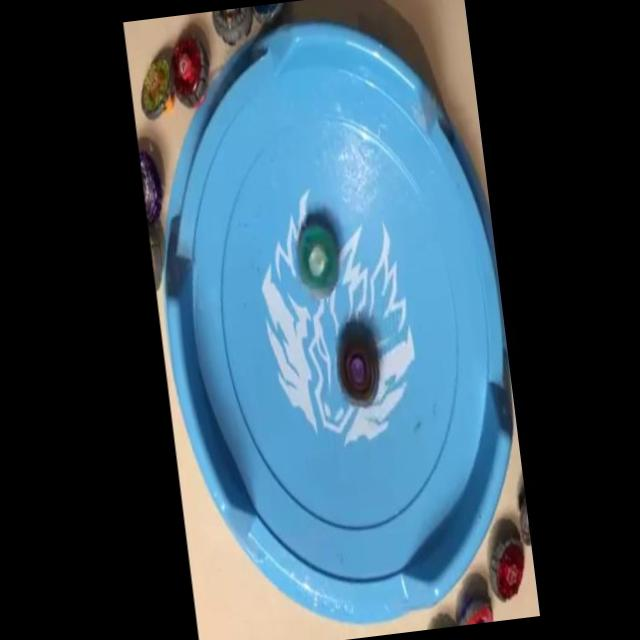Beyblade: (292, 219, 344, 301), (331, 331, 383, 408), (165, 32, 214, 111), (484, 533, 530, 603), (135, 56, 178, 124)
